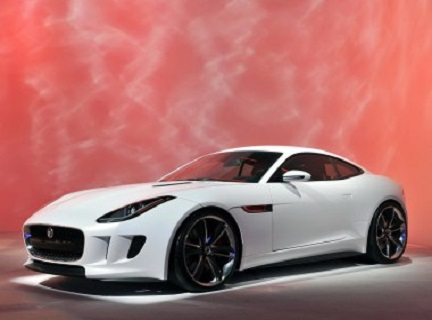捷豹-C-X16: (17, 143, 412, 297)
